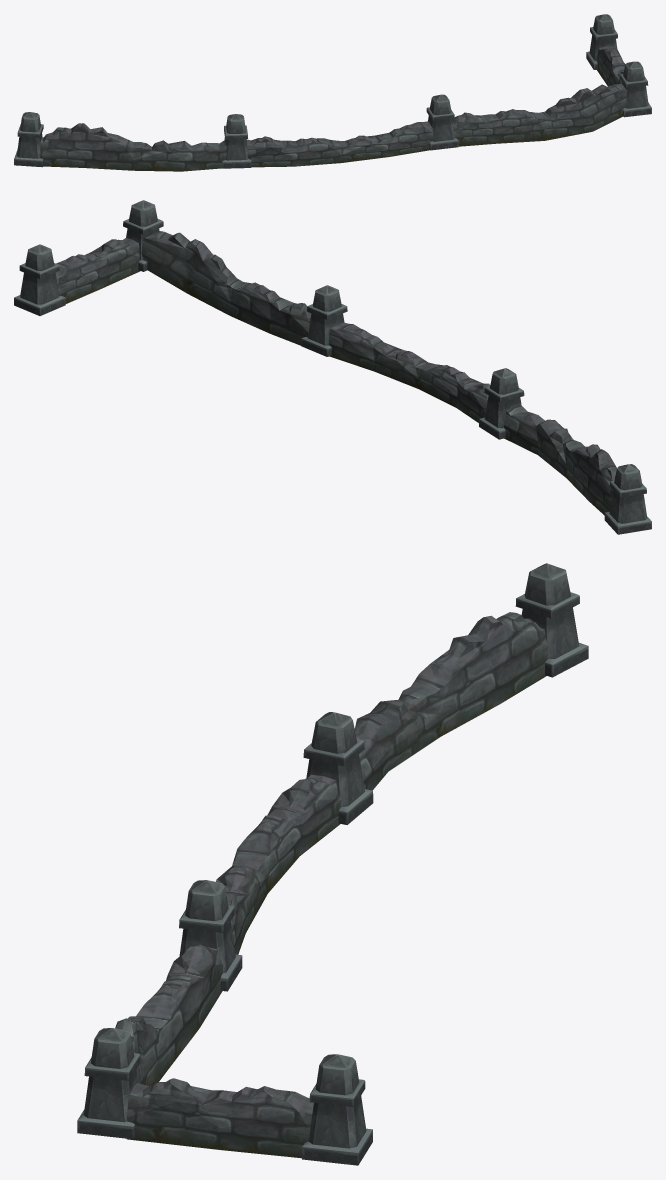
Rendered from object_stonewalls03.fbx.
The picture shows the model from 3 angles, top to bottom: view 1: azimuth 30°, elevation 25°; view 2: azimuth 150°, elevation 25°; view 3: azimuth 270°, elevation 25°; orthographic projection. The views are drawn at different scales.
Visible parts, largest first — view 1: obj1.030; view 2: obj1.030; view 3: obj1.030.
Part boxes in pixels (left/top/right/bottom): obj1.030: left=14, top=14, right=651, bottom=171; obj1.030: left=14, top=200, right=651, bottom=534; obj1.030: left=77, top=563, right=588, bottom=1165.
Bounding box in the file's own units: 26.41 × 2.8 × 10.56.
